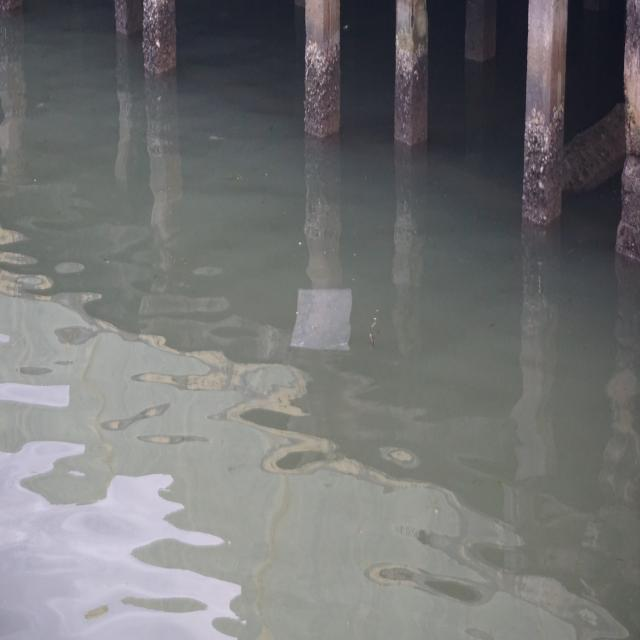Kantong Plastik: (291, 283, 356, 359)
